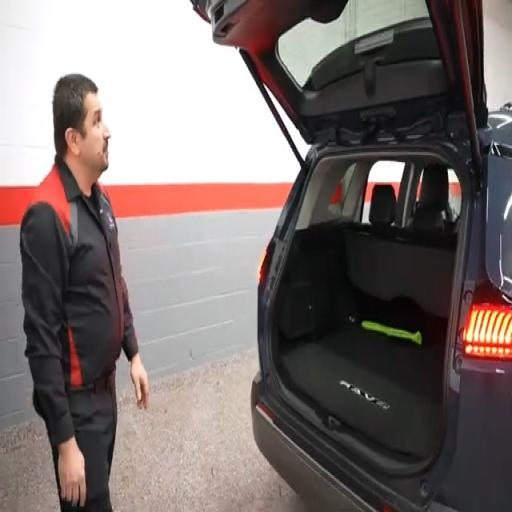bumper: (252, 375, 375, 511), (252, 404, 374, 511)
emblem: (340, 380, 389, 411)
taillight: (463, 303, 511, 359), (258, 241, 274, 285)
trunk: (273, 224, 455, 462)
window: (277, 0, 438, 88), (361, 160, 404, 223), (448, 168, 461, 220)
windshield: (277, 0, 438, 88)
